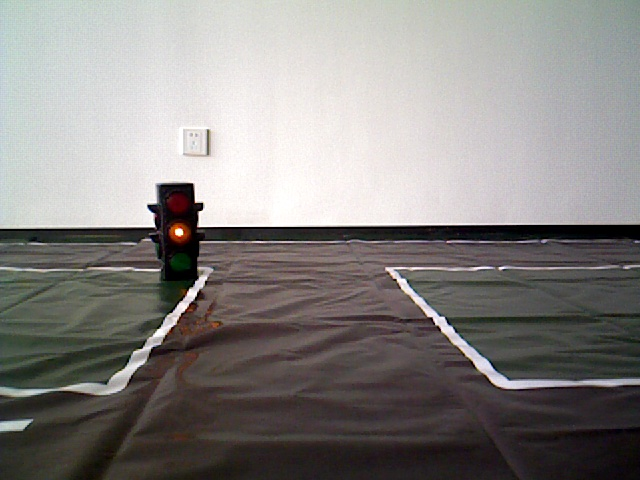yellow: (157, 190, 193, 272)
